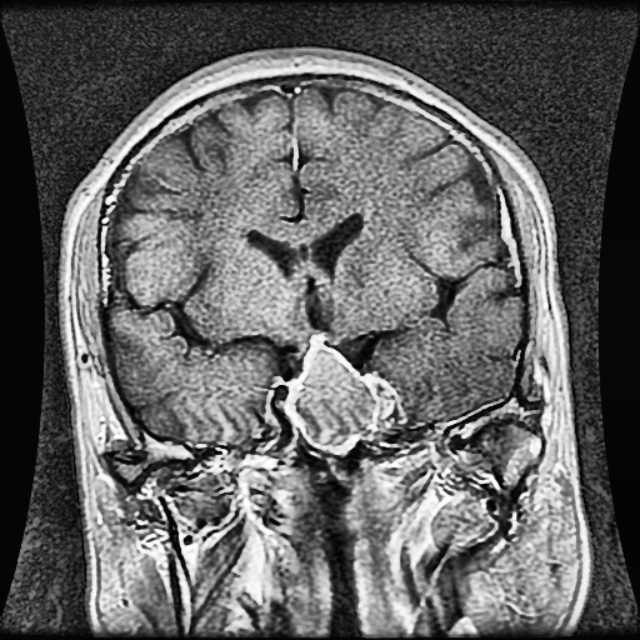Pituitary: (285, 334, 404, 453)
